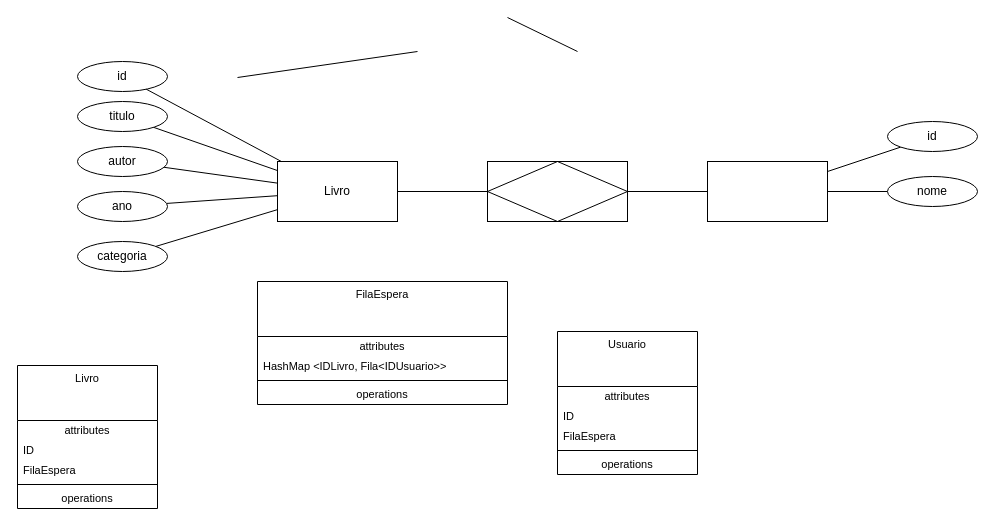
Some shapes in this 995 by 526 pixel diagram are drawn without their labels. Each missing label, with the box of its shape:
FilaDeEspera: (486, 160, 628, 222)
Usuarios: (706, 160, 828, 222)
